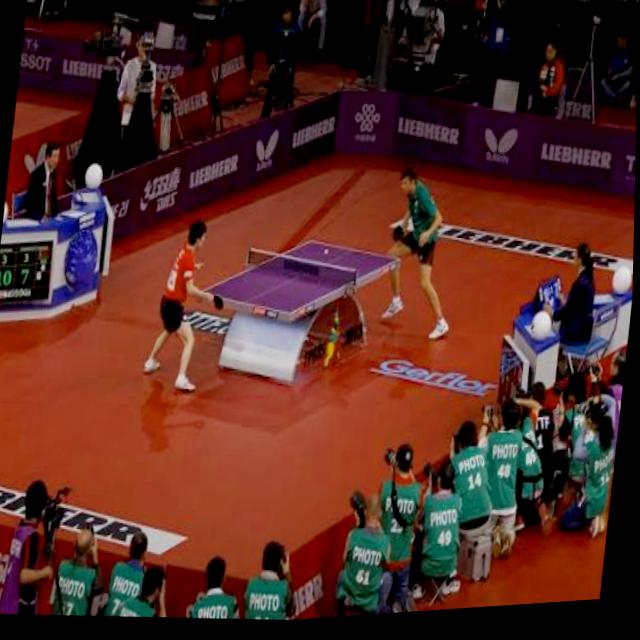TT Net: (245, 246, 360, 291)
TT Racket: (210, 289, 226, 315), (390, 220, 406, 245)
TT Table: (193, 241, 398, 312)
